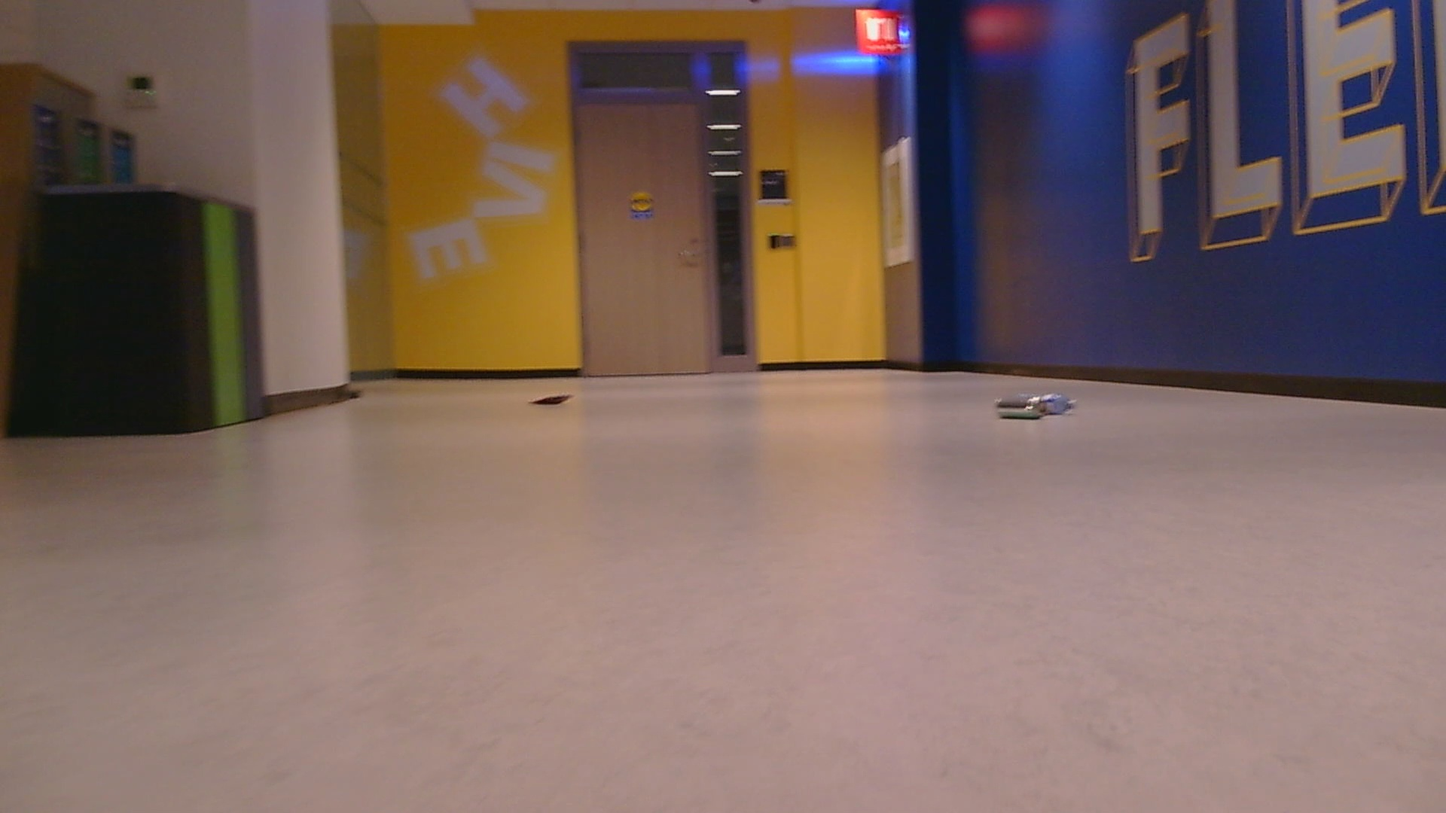can: (993, 388, 1078, 422), (525, 371, 579, 406)
